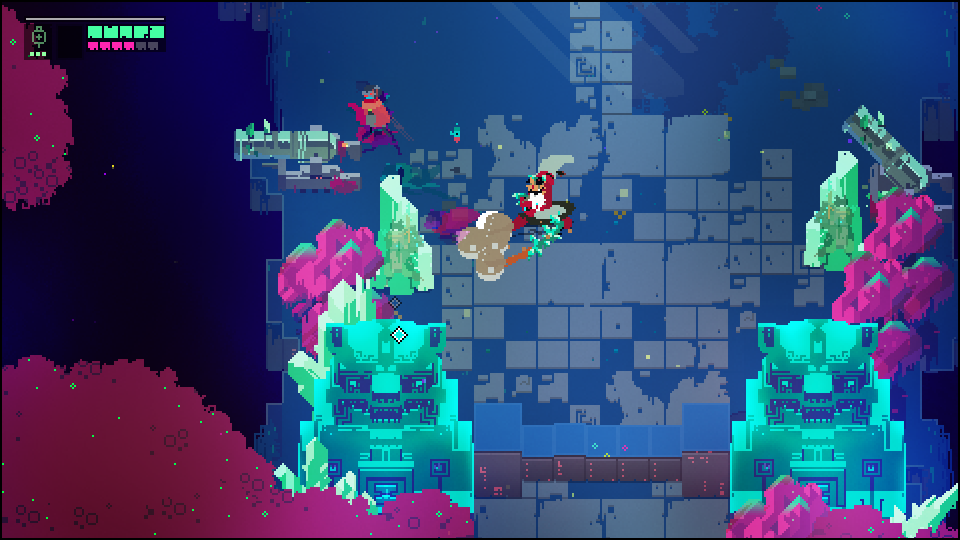hanged_man: (500, 150, 578, 263)
player: (349, 81, 395, 137)
